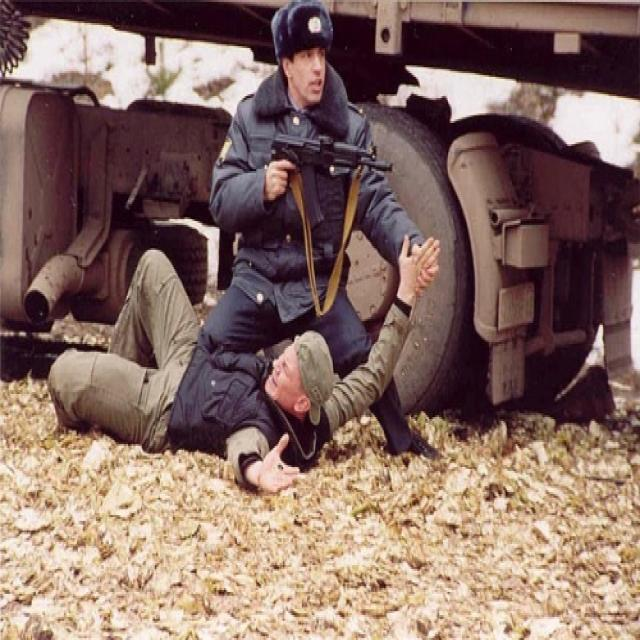rifle: (268, 129, 396, 196)
